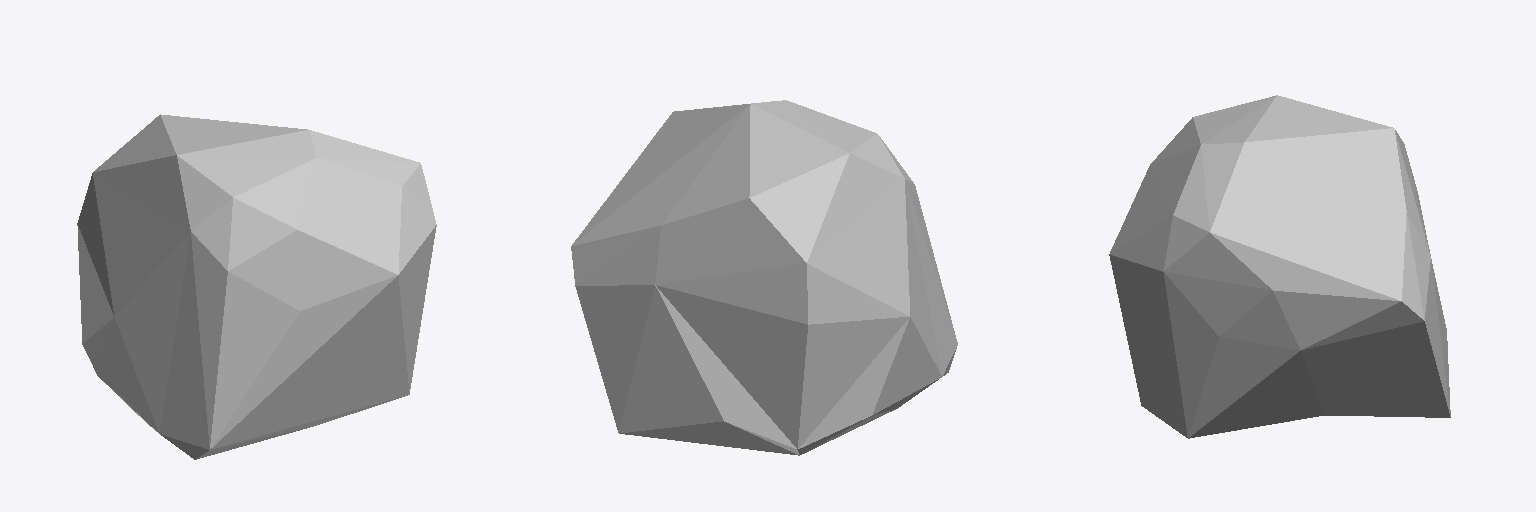
Rendered from kamien_1.obj.
3 views of the same model, side by side, from view 1: azimuth 30°, elevation 25°; view 2: azimuth 150°, elevation 25°; view 3: azimuth 270°, elevation 25° (orthographic).
Parts seen in each view (by area): view 1: rock.004; view 2: rock.004; view 3: rock.004.
Boxes of the visible parts, <box> form: rock.004: <box>77,114,436,459</box>; rock.004: <box>571,100,957,455</box>; rock.004: <box>1109,95,1450,438</box>.
Bounding box in the file's own units: 0.6833 × 0.6014 × 0.712.